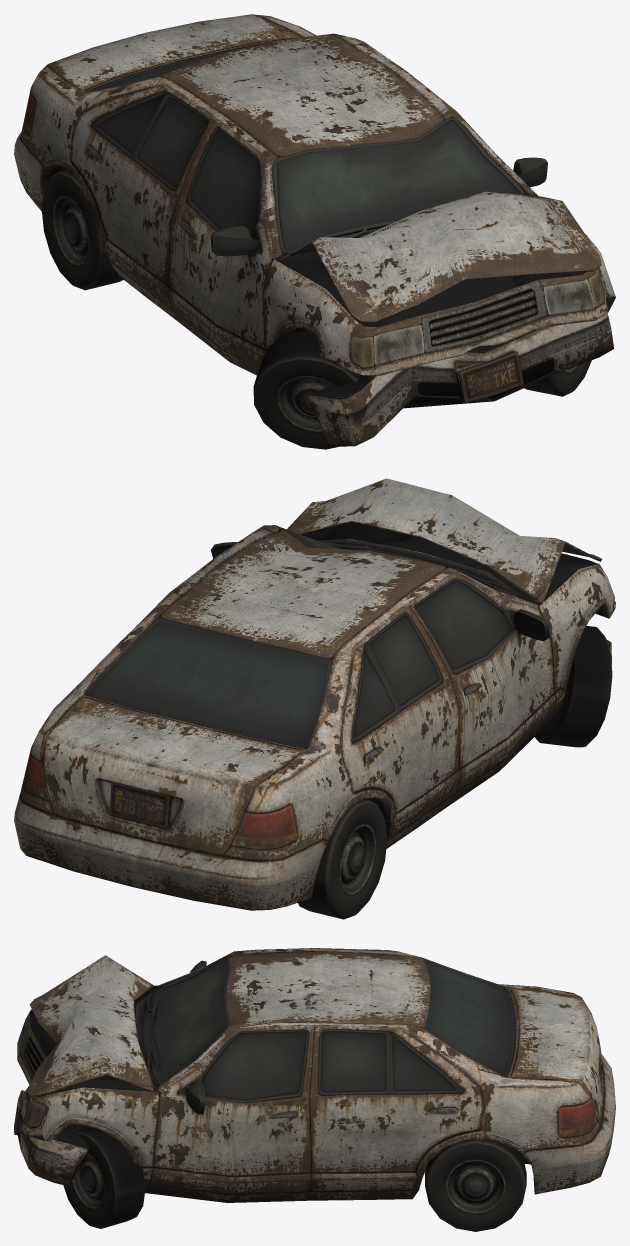
File: Car 2.FBX
3 views of the same model, one above another, from view 1: azimuth 30°, elevation 25°; view 2: azimuth 150°, elevation 25°; view 3: azimuth 270°, elevation 25° (orthographic). The views are drawn at different scales.
Visible parts, largest first — view 1: 1; view 2: 1; view 3: 1.
Part boxes in pixels (x1,y1,x2,y2): 1: (14, 14, 615, 449); 1: (14, 478, 615, 919); 1: (14, 948, 615, 1231).
Bounding box in the file's own units: 596 × 1087 × 381.
